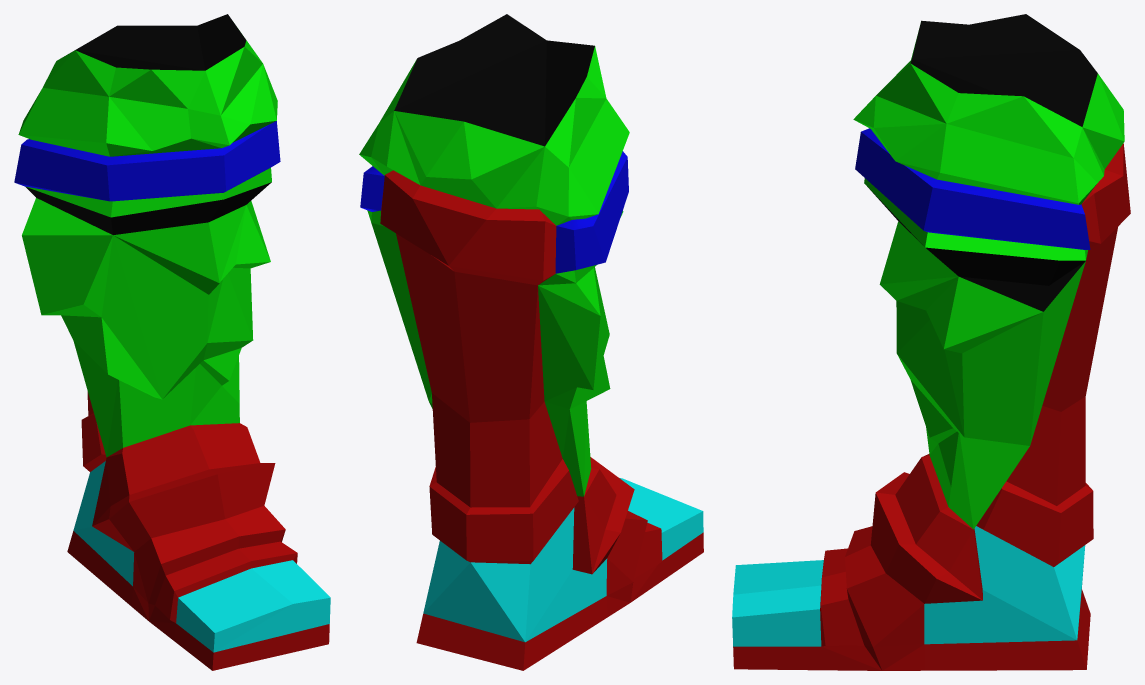
Rendered from Chr_LegLeft_Male_Static_05.fbx.
The picture shows the model from 3 angles, left to right: view 1: azimuth 30°, elevation 25°; view 2: azimuth 150°, elevation 25°; view 3: azimuth 270°, elevation 25°; orthographic projection. The views are drawn at different scales.
Parts seen in each view (by area): view 1: Chr_LegLeft_Male_05; view 2: Chr_LegLeft_Male_05; view 3: Chr_LegLeft_Male_05.
Part boxes in pixels (<box>): Chr_LegLeft_Male_05: <box>14,14,330,670</box>; Chr_LegLeft_Male_05: <box>359,14,703,670</box>; Chr_LegLeft_Male_05: <box>732,14,1130,670</box>.
Size of the model in its own units: 18.6 by 41.65 by 24.96.
